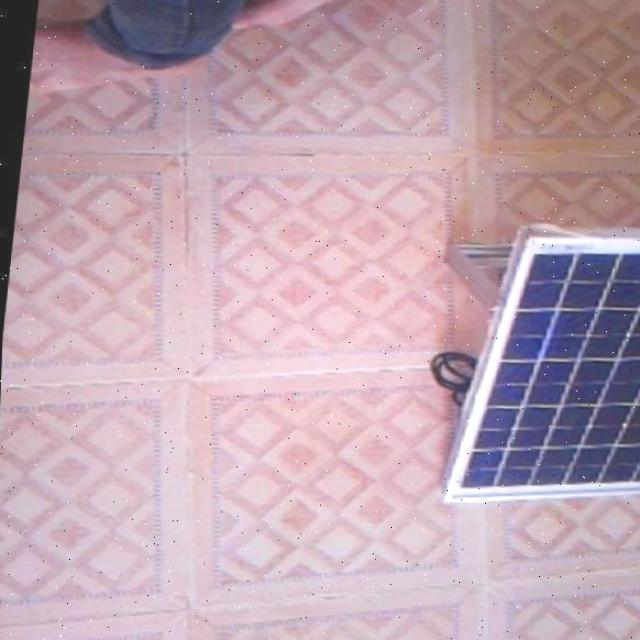Normal Solar Panel: (439, 221, 640, 525)
